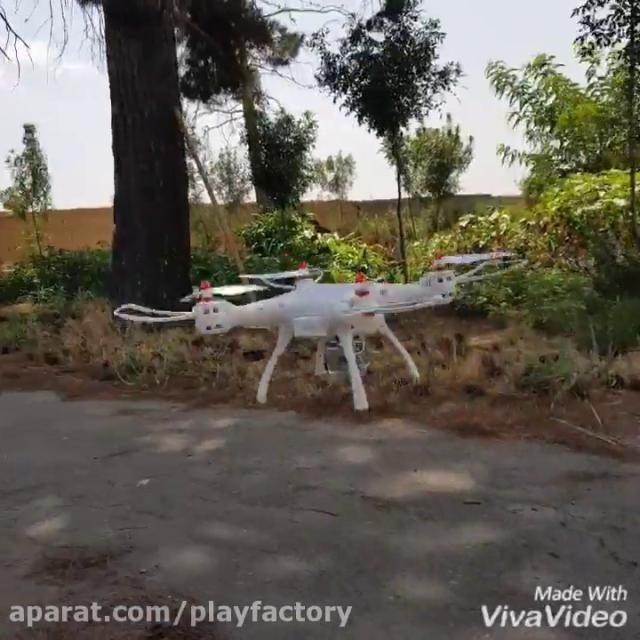drone: (109, 243, 527, 411)
